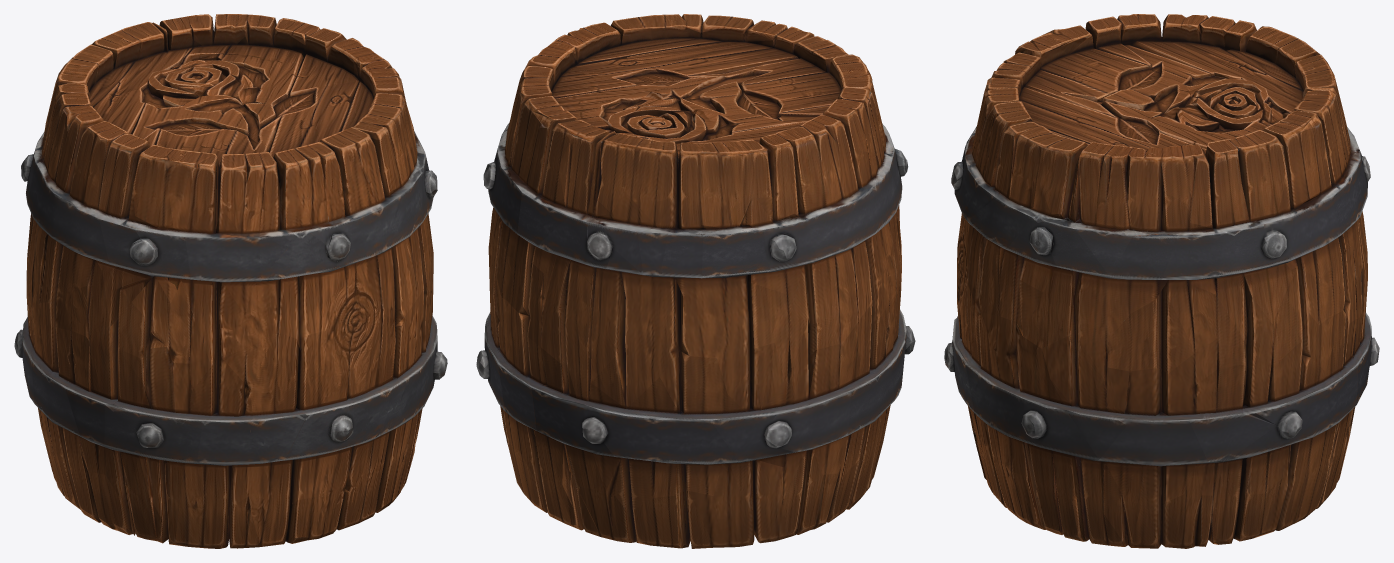
File: barrel-with-carved-rose-lid.glb
3 views of the same model, side by side, from view 1: azimuth 30°, elevation 25°; view 2: azimuth 150°, elevation 25°; view 3: azimuth 270°, elevation 25° (orthographic).
Bounding box in the file's own units: 1.84 × 1.9 × 1.9.
Materials: 1 (1 with a texture image).
